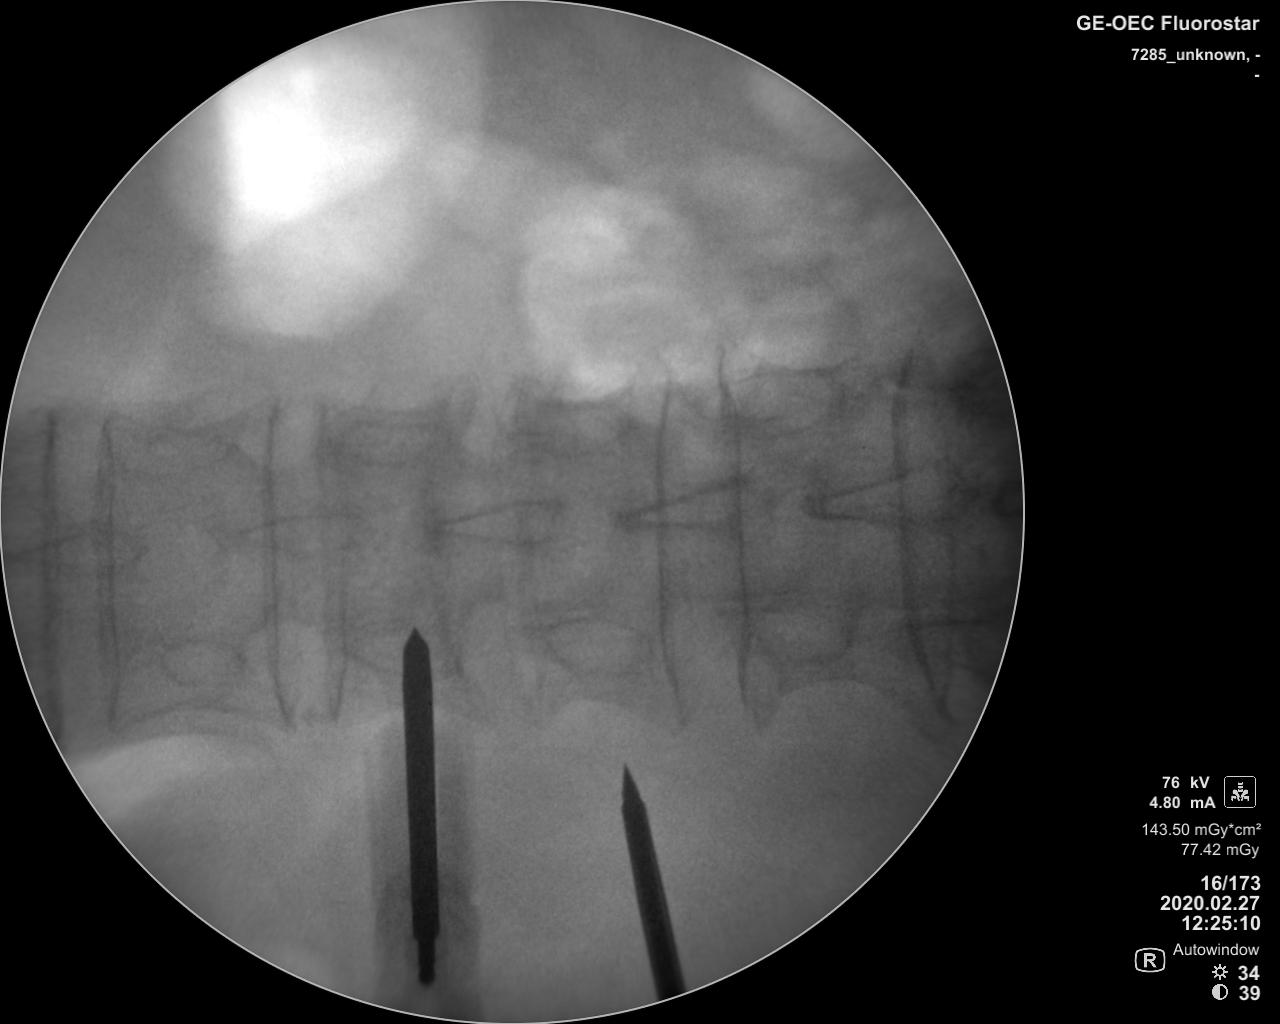eyes: (544, 615, 648, 679), (726, 372, 835, 430), (751, 602, 852, 660), (341, 414, 443, 468), (541, 398, 635, 457), (157, 634, 248, 692), (347, 622, 446, 673), (147, 420, 236, 470)
line: (712, 358, 754, 717), (891, 346, 929, 726), (651, 372, 689, 723), (260, 391, 296, 730), (316, 392, 347, 731), (92, 403, 123, 728), (41, 399, 63, 724)
nose: (795, 463, 979, 529), (619, 478, 777, 536), (423, 495, 569, 548), (218, 513, 376, 560), (9, 526, 147, 576)
